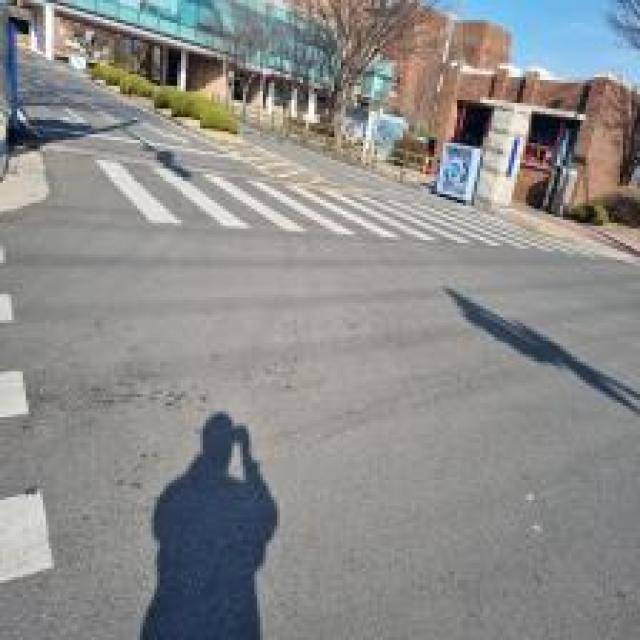walk-crossing: (106, 147, 583, 262)
